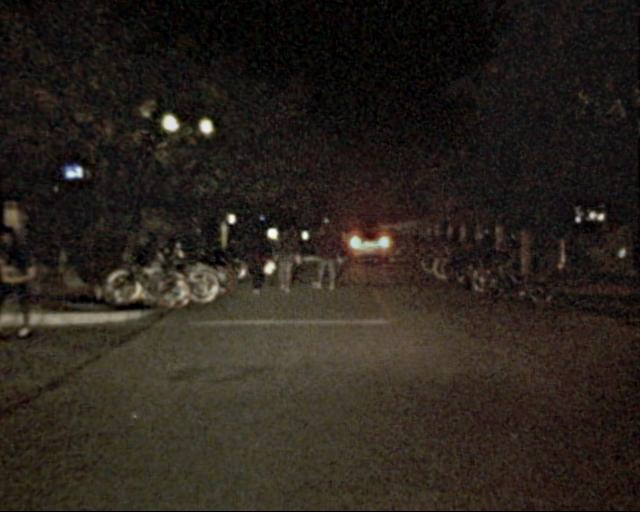person: (240, 216, 268, 291), (307, 224, 336, 294), (273, 221, 299, 295), (329, 224, 346, 266)
